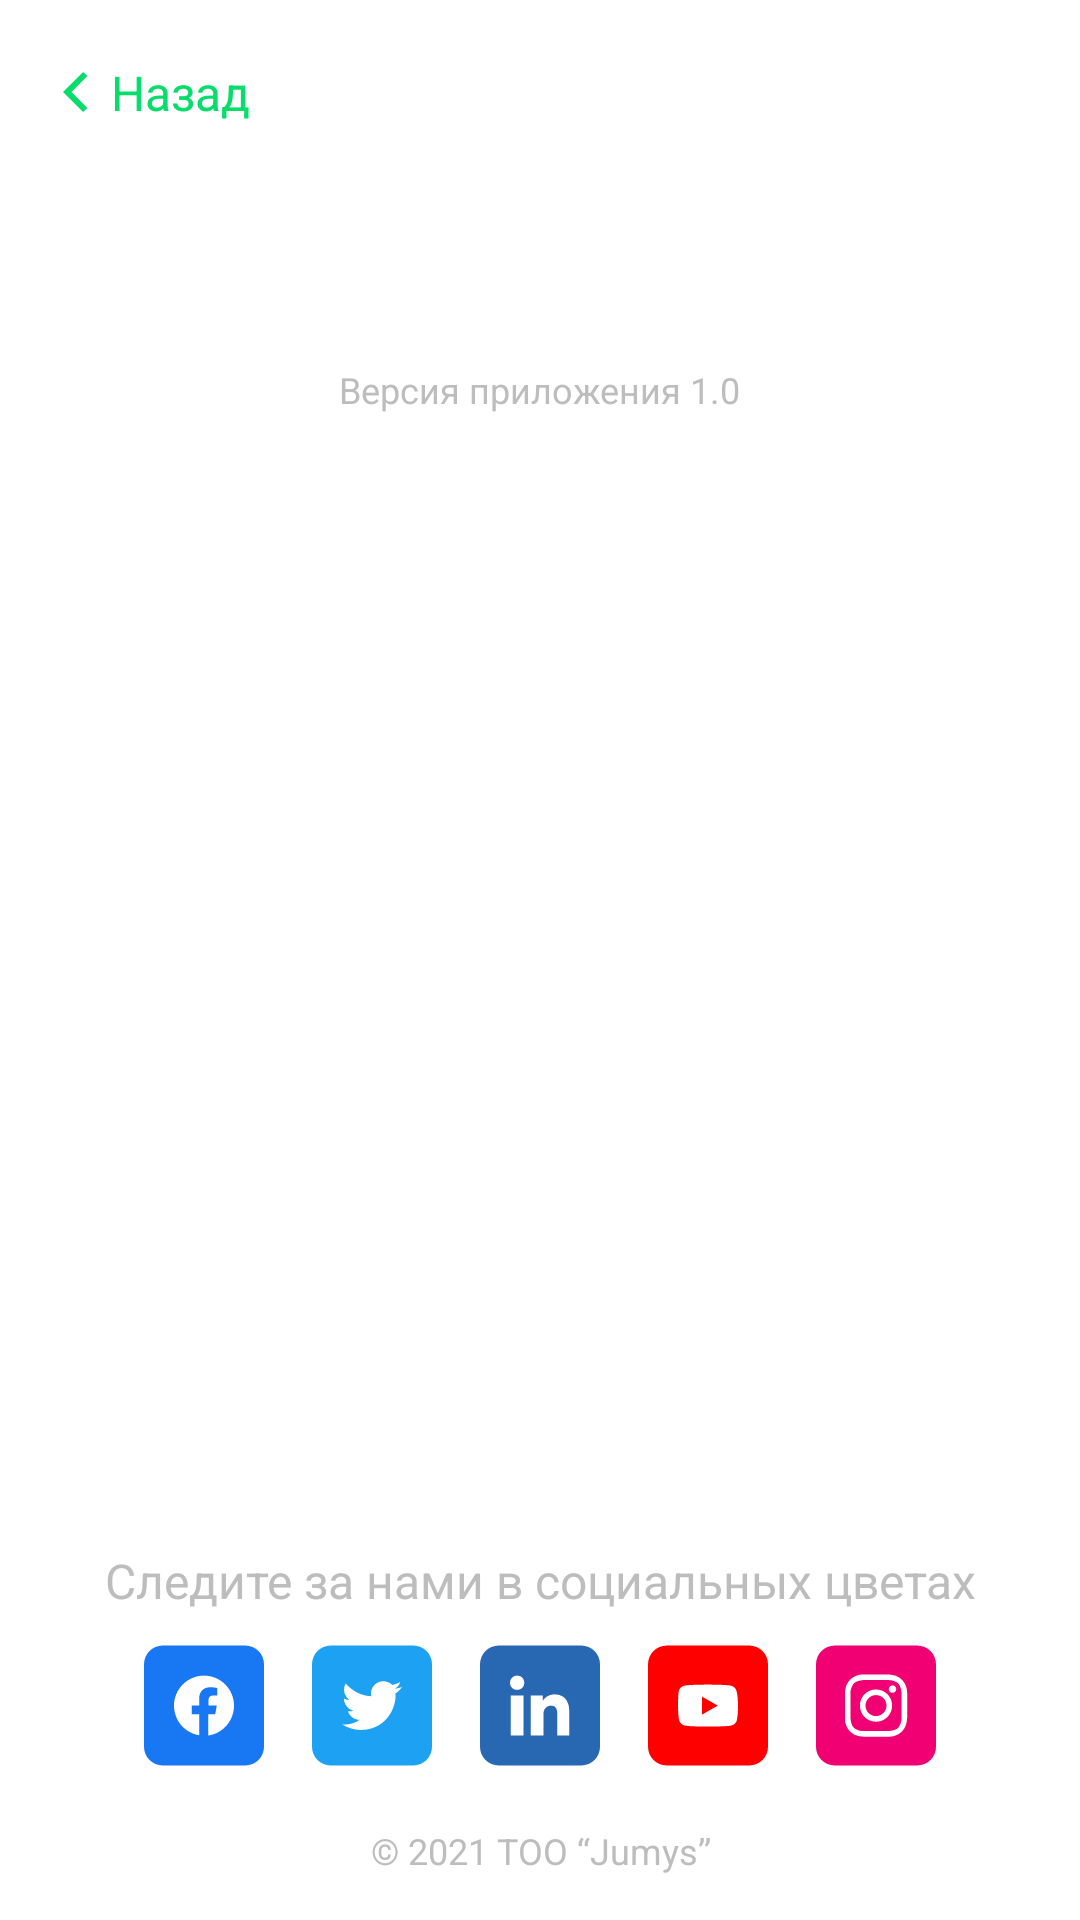

Locate icon controls on the screen. Image size 1080x1920, boxes as [x1,y1,x2,y2].
back arrow: [63,72,87,112]
